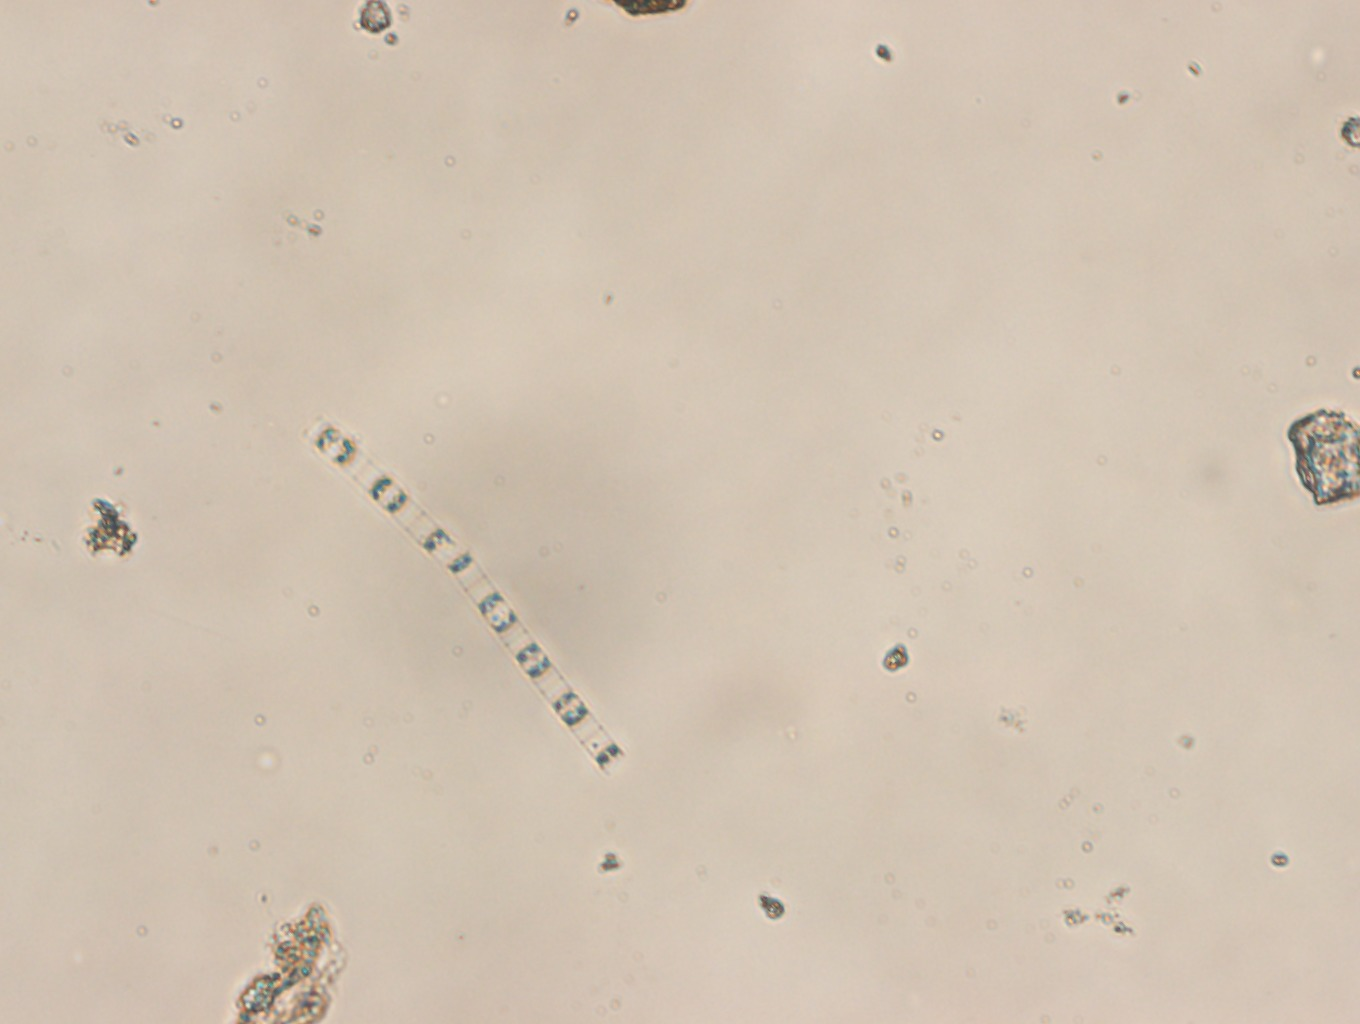skeletonema: (294, 409, 632, 780)
